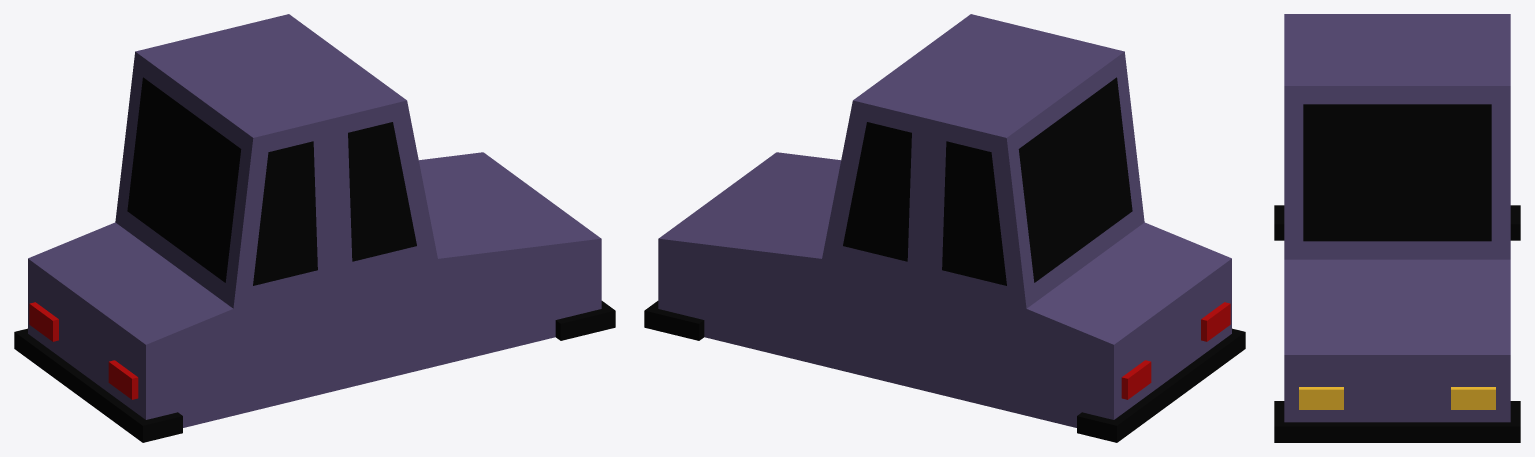
The model's file is CityCar_Sedan_05.fbx.
3 renders of one model, left to right at view 1: azimuth 30°, elevation 25°; view 2: azimuth 150°, elevation 25°; view 3: azimuth 270°, elevation 25°, orthographic. The views are drawn at different scales.
Visible parts, largest first — view 1: CityCar_Sedan_05; view 2: CityCar_Sedan_05; view 3: CityCar_Sedan_05.
Part boxes in pixels (x1,y1,x2,y2): CityCar_Sedan_05: (14, 14, 615, 442); CityCar_Sedan_05: (644, 14, 1245, 442); CityCar_Sedan_05: (1274, 14, 1520, 442).
Size of the model in its own units: 0.4902 by 0.2706 by 0.2307.
